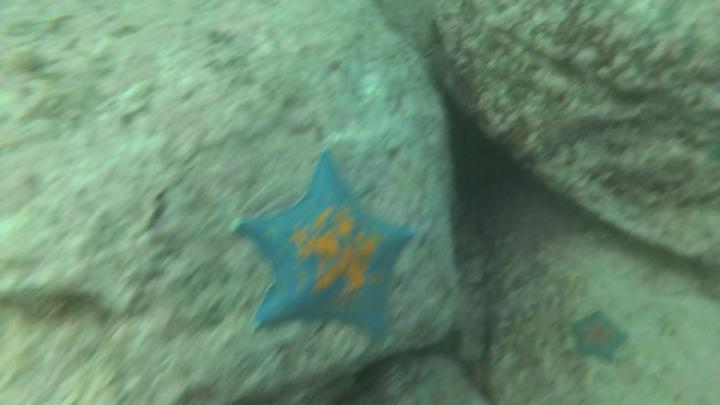starfish: (229, 151, 420, 345), (568, 306, 630, 367), (406, 370, 468, 405)
